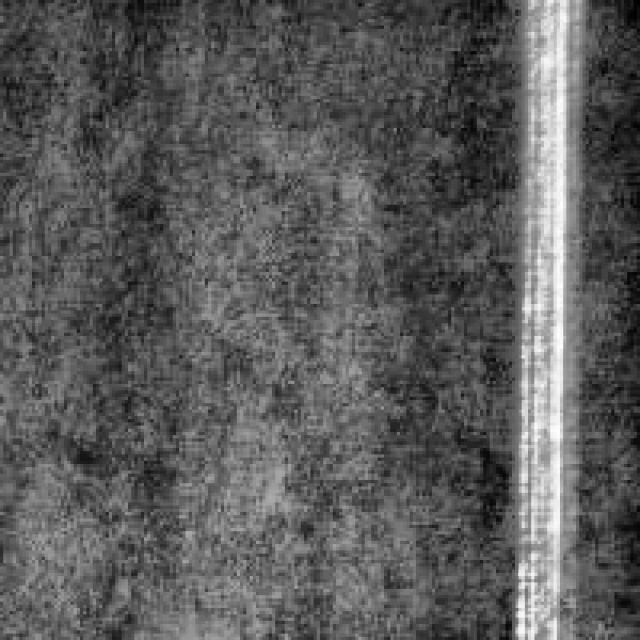Inclusion: (496, 0, 582, 637)
